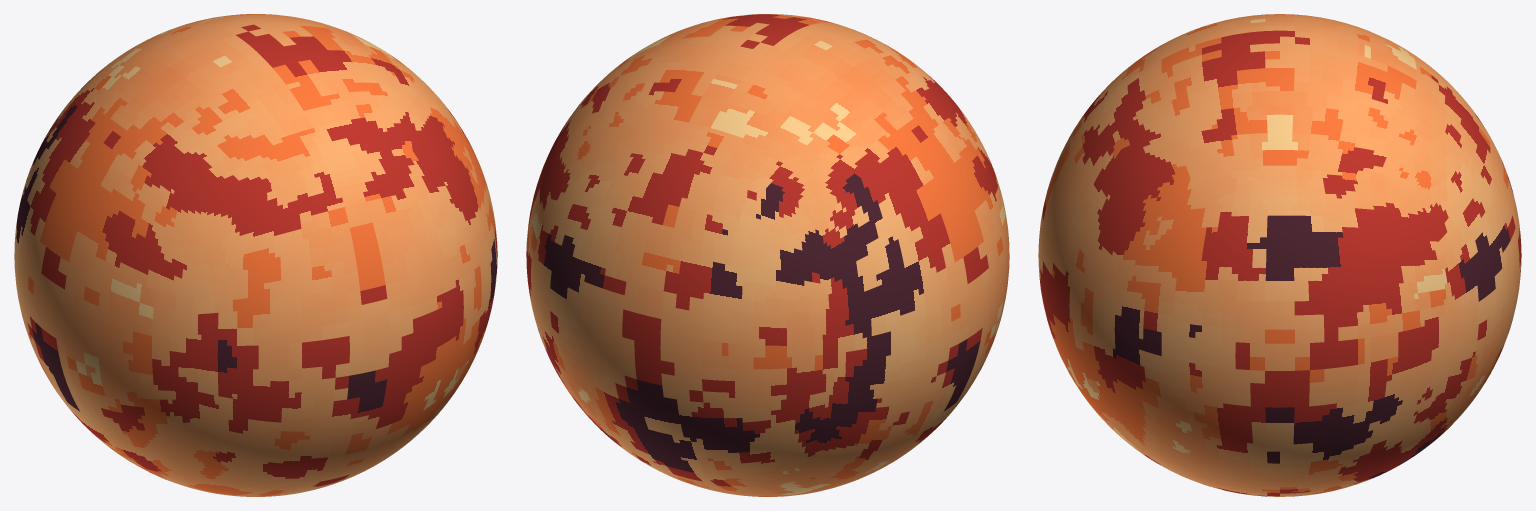
File: lava.glb
3 views of the same model, side by side, from view 1: azimuth 30°, elevation 25°; view 2: azimuth 150°, elevation 25°; view 3: azimuth 270°, elevation 25° (orthographic).
Visible parts, largest first — view 1: Surface; view 2: Surface; view 3: Surface.
Part boxes in pixels (x1,y1,x2,y2): Surface: (14,14,497,496); Surface: (526,14,1009,496); Surface: (1038,14,1521,496).
Size of the model in its own units: 2 by 2 by 2.
6 materials, 6 textured.
